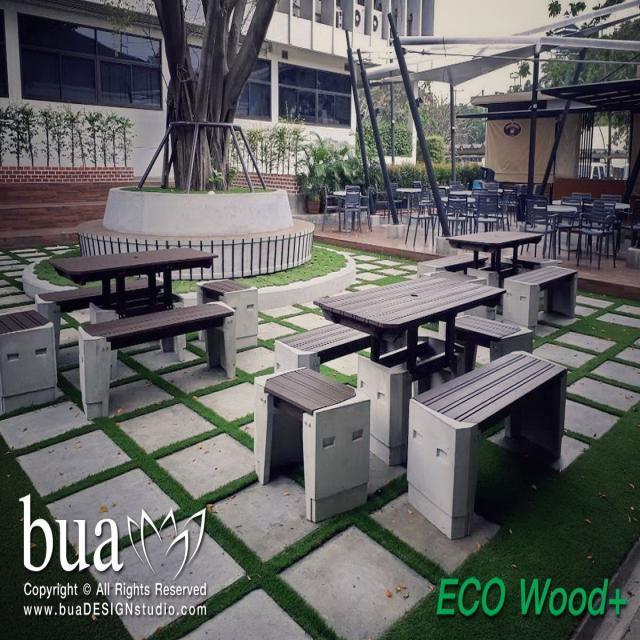table: (302, 258, 502, 346), (45, 232, 229, 302), (440, 196, 547, 270)
